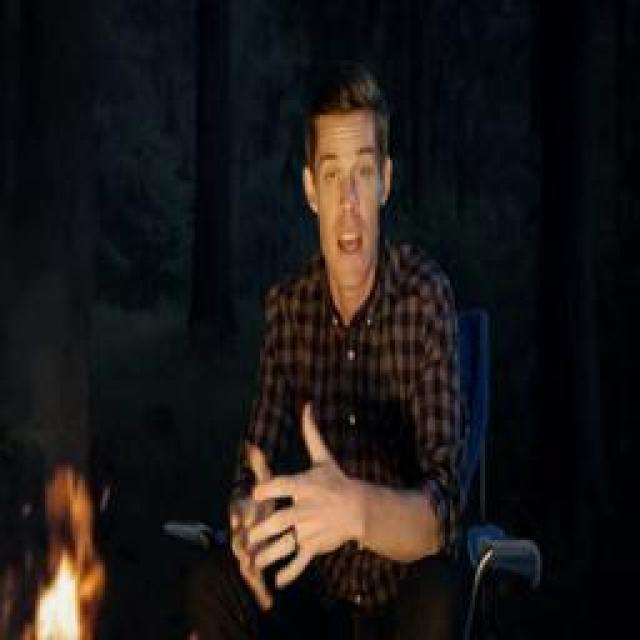Fire: (34, 460, 104, 640)
